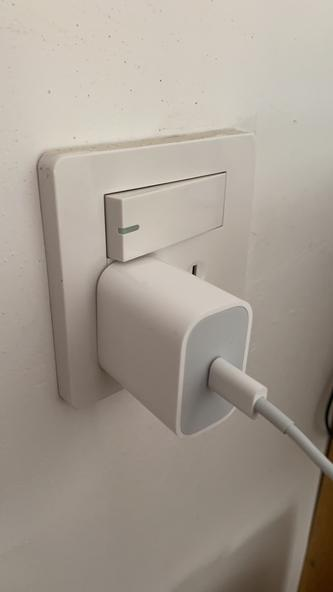switch: (100, 177, 245, 250)
